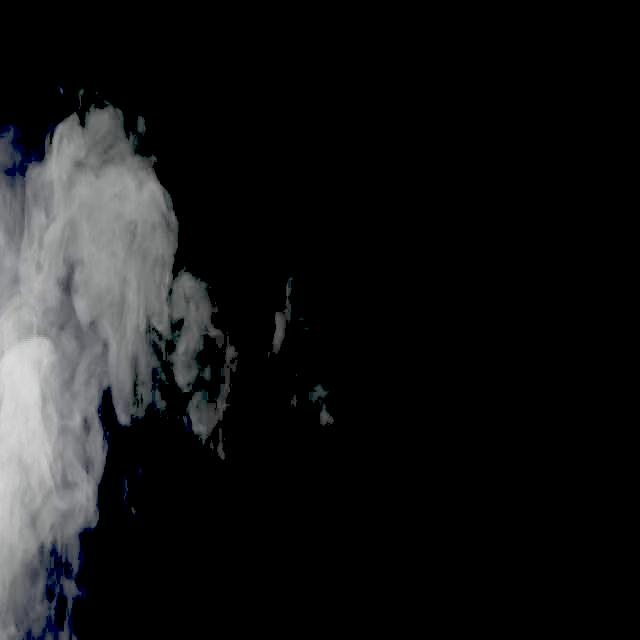smoke: (2, 357, 60, 528), (59, 99, 132, 220), (2, 532, 85, 637), (104, 212, 172, 337), (230, 384, 299, 507), (285, 250, 339, 388), (8, 276, 72, 380), (30, 196, 90, 301), (84, 331, 148, 417), (316, 407, 363, 512), (180, 281, 220, 368), (64, 442, 88, 520)
